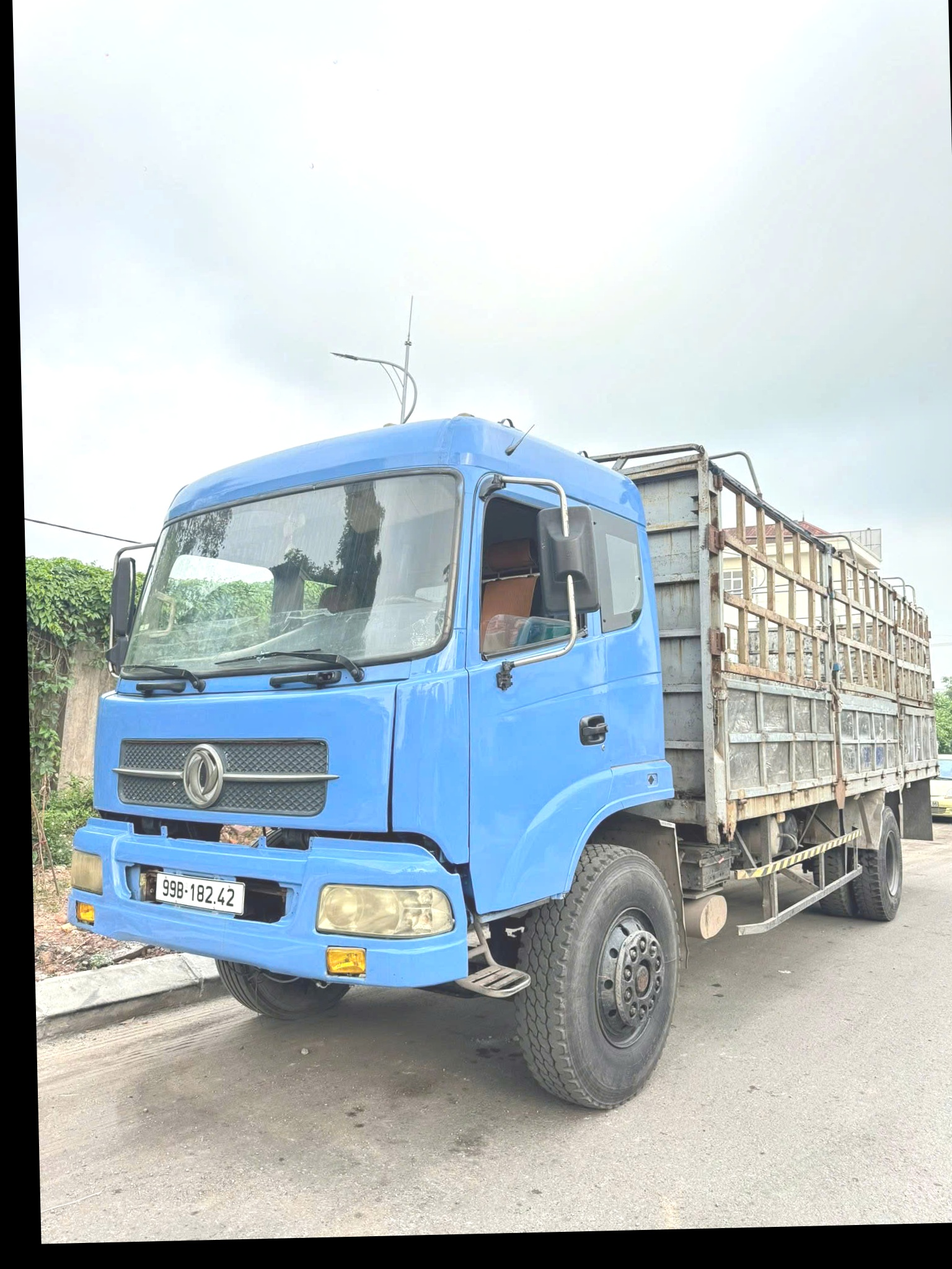Bien-so: (156, 870, 248, 920)
